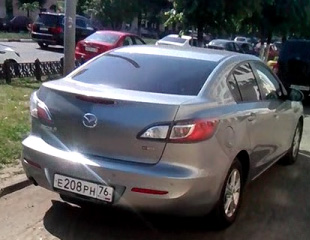car license plate: (52, 170, 115, 205)
